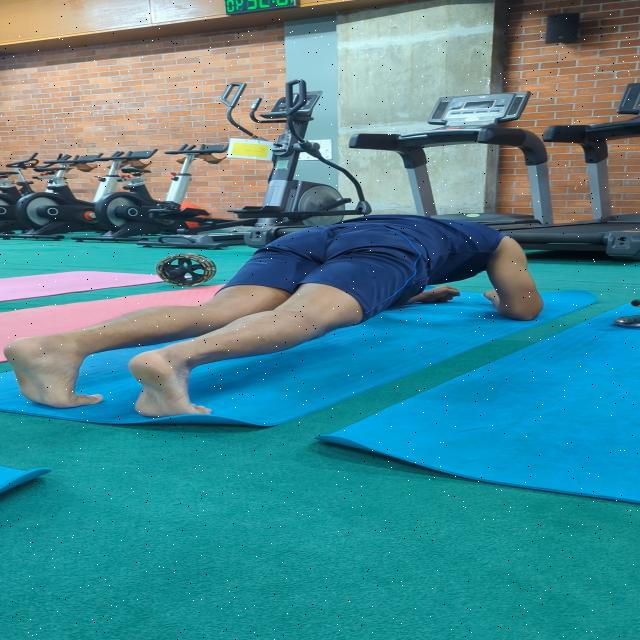Normal_Plunk: (0, 203, 567, 419)
